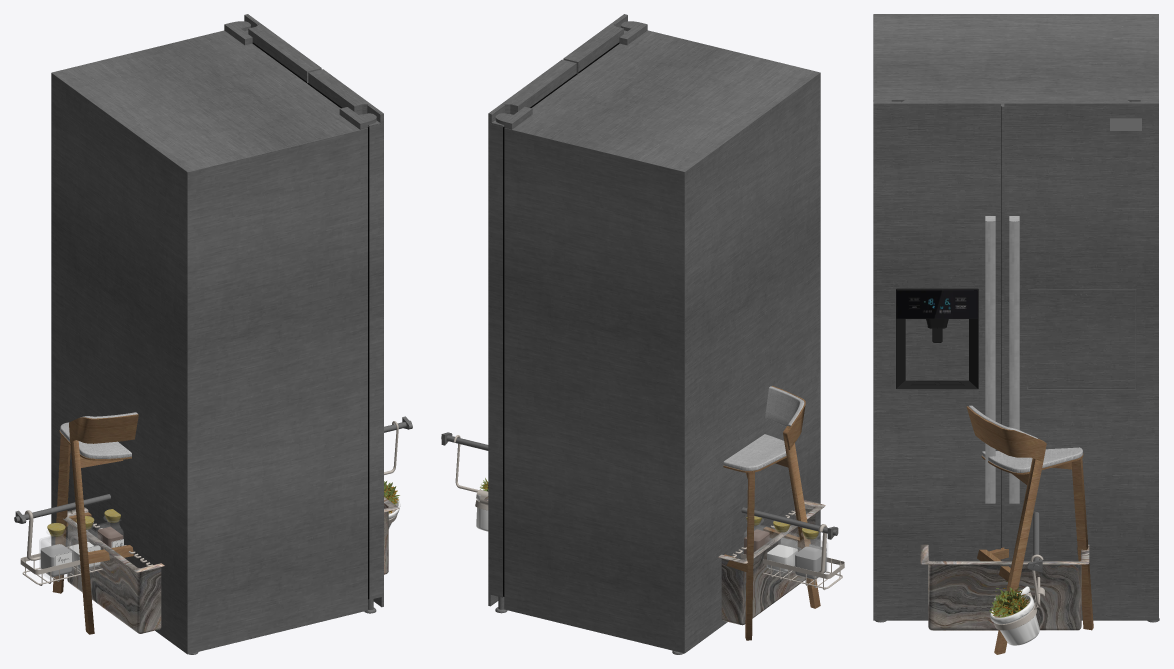
Rendered from kitchen.glb.
The picture shows the model from 3 angles, left to right: view 1: azimuth 30°, elevation 25°; view 2: azimuth 150°, elevation 25°; view 3: azimuth 270°, elevation 25°; orthographic projection. The views are drawn at different scales.
Parts seen in each view (by area): view 1: RLF_74925_Aluminum_0, Sink_Onyx_0, Stool_OakWood_0, utilitys.001_Glass_0, utilitys.001_Chrome_0, RLF_74925__auto_23_0, Stool_M_12_s21_0, utilitys.001_Aluminium_0, utilitys.001_white_dirt_0, utilitys.001_M_96_96_96_0; view 2: RLF_74925_Aluminum_0, Sink_Onyx_0, Stool_OakWood_0, Stool_M_12_s21_0, utilitys.001_Glass_0, utilitys.001_Chrome_0, RLF_74925__auto_23_0, utilitys.001_white_dirt_0, utilitys.001_Aluminium_0, utilitys.001_M_96_96_96_0; view 3: RLF_74925_Aluminum_0, Sink_Onyx_0, Stool_OakWood_0, RLF_74925_Aluminium_Bright_0, RLF_74925_Black_0, RLF_74925_Screen.001_0, Stool_M_12_s21_0, utilitys.001_white_dirt_0, utilitys.001_Asphalt_New_0, utilitys.001_Chrome_0, utilitys.001_Aluminium_0.
Part boxes in pixels (x1,y1,x2,y2): RLF_74925_Aluminum_0: (51, 14, 383, 654); Sink_Onyx_0: (63, 497, 399, 633); Stool_OakWood_0: (52, 414, 138, 634); utilitys.001_Glass_0: (39, 516, 122, 579); utilitys.001_Chrome_0: (20, 421, 398, 585); RLF_74925__auto_23_0: (252, 42, 369, 599); Stool_M_12_s21_0: (60, 412, 137, 458); utilitys.001_Aluminium_0: (14, 416, 412, 523); utilitys.001_white_dirt_0: (54, 495, 400, 569); utilitys.001_M_96_96_96_0: (40, 544, 72, 576); RLF_74925_Aluminum_0: (488, 14, 820, 654); Sink_Onyx_0: (484, 496, 825, 625); Stool_OakWood_0: (723, 386, 820, 640); Stool_M_12_s21_0: (723, 386, 804, 470); utilitys.001_Glass_0: (744, 519, 827, 583); utilitys.001_Chrome_0: (453, 435, 844, 589); RLF_74925__auto_23_0: (503, 42, 619, 596); utilitys.001_white_dirt_0: (476, 494, 826, 572); utilitys.001_Aluminium_0: (441, 432, 838, 539); utilitys.001_M_96_96_96_0: (795, 546, 826, 579); RLF_74925_Aluminum_0: (873, 14, 1159, 622); Sink_Onyx_0: (920, 544, 1089, 630); Stool_OakWood_0: (966, 406, 1093, 654); RLF_74925_Aluminium_Bright_0: (985, 216, 1019, 503); RLF_74925_Black_0: (896, 288, 978, 389); RLF_74925_Screen.001_0: (896, 289, 977, 318); Stool_M_12_s21_0: (968, 405, 1082, 472); utilitys.001_white_dirt_0: (990, 586, 1039, 645); utilitys.001_Asphalt_New_0: (989, 581, 1029, 617); utilitys.001_Chrome_0: (993, 554, 1044, 630); utilitys.001_Aluminium_0: (1027, 512, 1042, 572).
Size of the model in its own units: 1.98 by 2.38 by 1.18.
56 materials, 29 textured.
